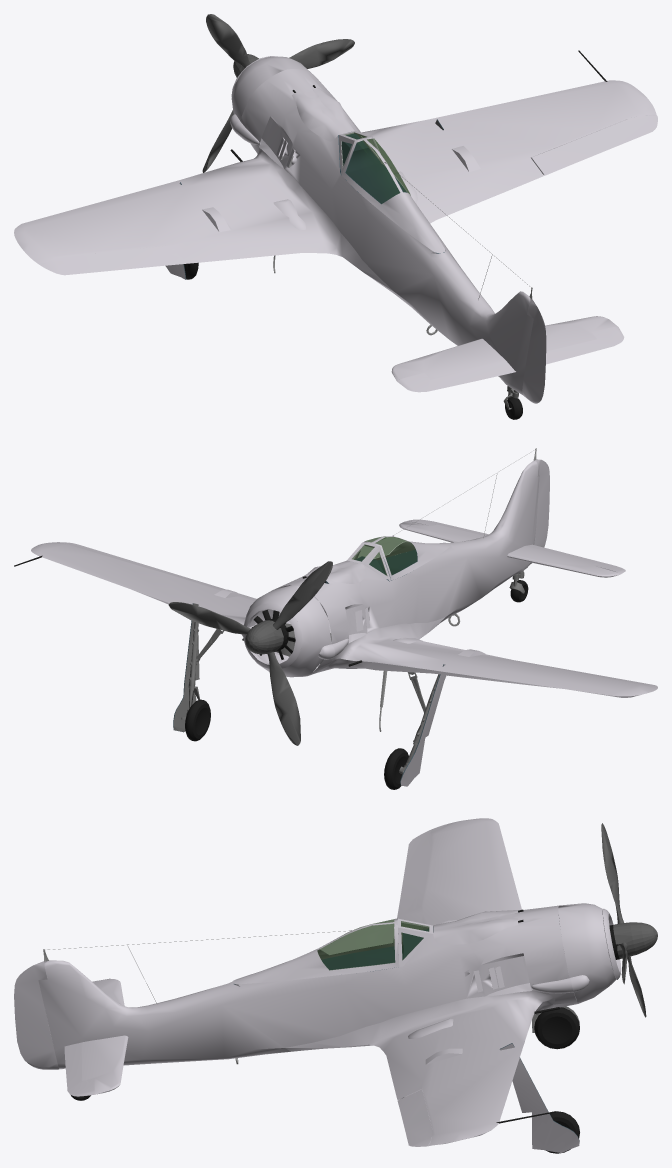
Rendered from uploads_files_2447858_FW190_F8.fbx.
3 views of the same model, one above another, from view 1: azimuth 30°, elevation 25°; view 2: azimuth 150°, elevation 25°; view 3: azimuth 270°, elevation 25° (orthographic). The views are drawn at different scales.
Visible parts, largest first — view 1: FW190FUS, FW190ALR, FW190TP, FW190PRO, FW190ALL, FW190CAB, FW190GLR, FW190RUD; view 2: FW190FUS, FW190PRO, FW190CAB, FW190GLR, FW190COL, FW190RUD, FW190SPN, FW190COR, FW190RIN, fw190wl, fw190wra, fw190wr (+2 smaller); view 3: FW190FUS, FW190RUD, FW190CAB, FW190GLR, FW190COR, FW190ALL, fw190wr, FW190ALR, FW190PRO, FW190SPN, FW190TP, FW190RIN.
Part boxes in pixels (x1,y1,x2,y2): FW190FUS: [14, 56, 656, 395]; FW190ALR: [531, 115, 657, 175]; FW190TP: [397, 326, 624, 392]; FW190PRO: [202, 14, 354, 172]; FW190ALL: [42, 245, 182, 275]; FW190CAB: [342, 137, 445, 253]; FW190GLR: [346, 138, 410, 203]; FW190RUD: [522, 299, 546, 403]; FW190FUS: [31, 460, 657, 697]; FW190PRO: [168, 561, 332, 745]; FW190CAB: [356, 535, 451, 580]; FW190GLR: [358, 536, 416, 574]; FW190COL: [400, 664, 446, 786]; FW190RUD: [530, 459, 549, 564]; FW190SPN: [245, 620, 283, 654]; FW190COR: [173, 603, 199, 732]; FW190RIN: [243, 603, 302, 668]; fw190wl: [185, 699, 210, 741]; fw190wra: [181, 622, 223, 719]; fw190wr: [384, 748, 408, 789]; FW190FUS: [38, 818, 616, 1145]; FW190RUD: [14, 961, 58, 1069]; FW190CAB: [233, 918, 399, 984]; FW190GLR: [317, 919, 394, 970]; FW190COR: [499, 1043, 579, 1152]; FW190ALL: [397, 831, 432, 914]; fw190wr: [534, 1007, 579, 1049]; FW190ALR: [397, 1089, 432, 1146]; FW190PRO: [601, 823, 646, 1017]; FW190SPN: [613, 922, 657, 958]; FW190TP: [64, 981, 94, 1096]; FW190RIN: [602, 908, 621, 979].
Bounding box in the file's own units: 7846 × 2851 × 6686.
